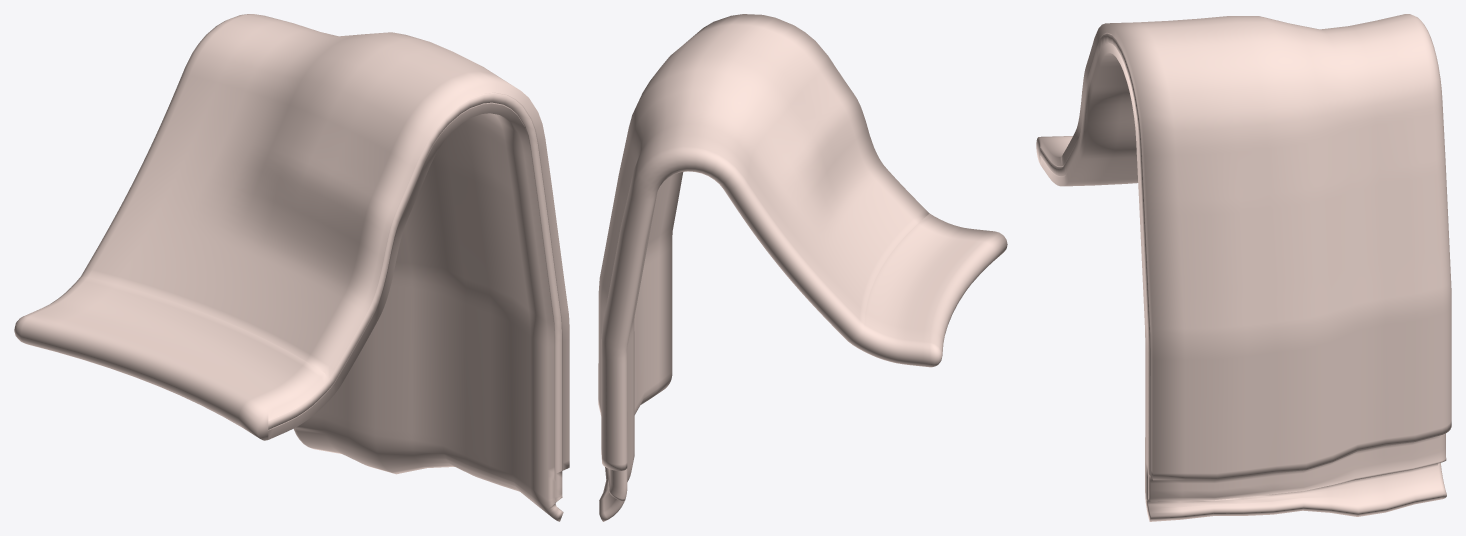
Rendered from Blanket_Rose.fbx.
3 views of the same model, side by side, from view 1: azimuth 30°, elevation 25°; view 2: azimuth 150°, elevation 25°; view 3: azimuth 270°, elevation 25° (orthographic). The views are drawn at different scales.
Visible parts, largest first — view 1: Blanket_Rose; view 2: Blanket_Rose; view 3: Blanket_Rose.
Part boxes in pixels (bbox=[...]): Blanket_Rose: bbox=[14, 14, 569, 521]; Blanket_Rose: bbox=[598, 14, 1007, 521]; Blanket_Rose: bbox=[1036, 14, 1451, 521].
Size of the model in its own units: 0.4004 by 0.4143 by 0.3374.
